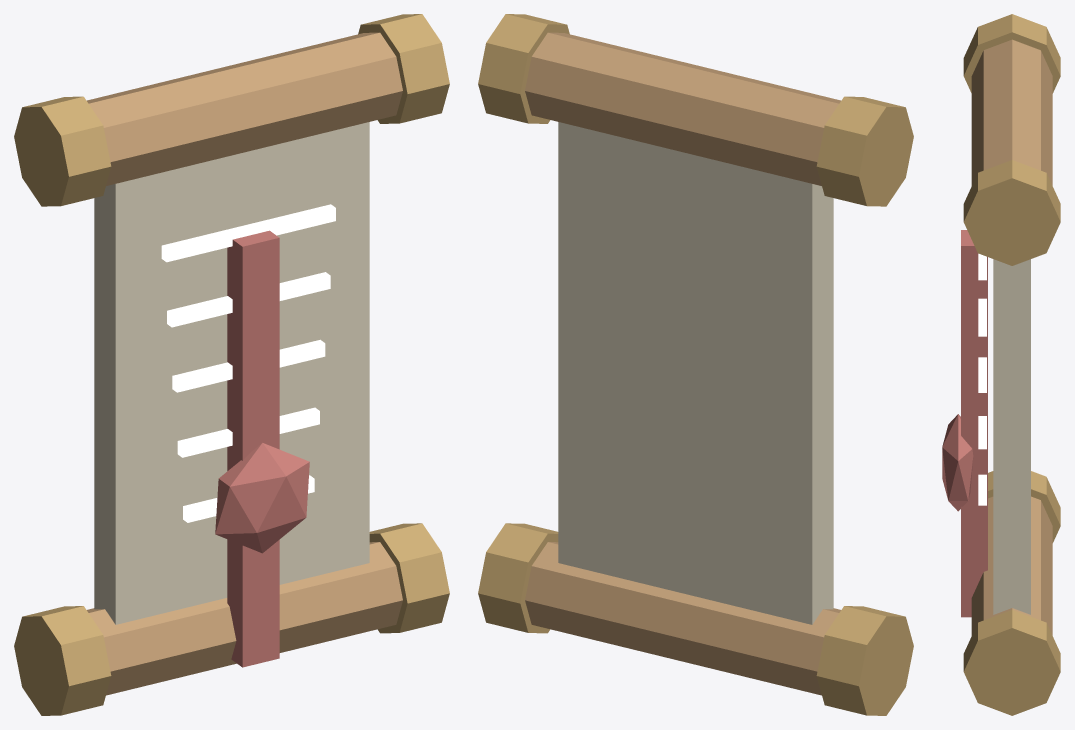
Rendered from sealed_scroll.glb.
3 views of the same model, side by side, from view 1: azimuth 30°, elevation 25°; view 2: azimuth 150°, elevation 25°; view 3: azimuth 270°, elevation 25° (orthographic). The views are drawn at different scales.
Visible parts, largest first — view 1: Parchment, EndCap_0.46, EndCap_-0.46, Ribbon, MetalCap_0.46, MetalCap_-0.46, WaxSeal, MetalCapR_0.46, MetalCapR_-0.46, GlowingText_0, GlowingText_1, GlowingText_2 (+2 smaller); view 2: Parchment, EndCap_0.46, EndCap_-0.46, MetalCap_0.46, MetalCap_-0.46, MetalCapR_0.46, MetalCapR_-0.46; view 3: Parchment, EndCap_0.46, MetalCapR_0.46, MetalCapR_-0.46, Ribbon, EndCap_-0.46, MetalCap_0.46, WaxSeal, MetalCap_-0.46, GlowingText_1, GlowingText_2, GlowingText_3 (+2 smaller).
Part boxes in pixels (x1=…): Parchment: x1=94, y1=122, x2=369, y2=624; EndCap_0.46: x1=87, y1=32, x2=402, y2=185; EndCap_-0.46: x1=87, y1=542, x2=402, y2=695; Ribbon: x1=227, y1=230, x2=279, y2=667; MetalCap_0.46: x1=14, y1=96, x2=111, y2=206; MetalCap_-0.46: x1=14, y1=606, x2=111, y2=715; WaxSeal: x1=215, y1=443, x2=309, y2=553; MetalCapR_0.46: x1=358, y1=14, x2=449, y2=123; MetalCapR_-0.46: x1=369, y1=523, x2=449, y2=633; GlowingText_0: x1=161, y1=204, x2=335, y2=262; GlowingText_1: x1=167, y1=272, x2=330, y2=327; GlowingText_2: x1=172, y1=339, x2=325, y2=392; Parchment: x1=558, y1=122, x2=833, y2=624; EndCap_0.46: x1=525, y1=32, x2=840, y2=185; EndCap_-0.46: x1=525, y1=542, x2=840, y2=695; MetalCap_0.46: x1=816, y1=96, x2=913, y2=206; MetalCap_-0.46: x1=816, y1=606, x2=913, y2=715; MetalCapR_0.46: x1=478, y1=14, x2=569, y2=123; MetalCapR_-0.46: x1=478, y1=523, x2=558, y2=633; Parchment: x1=993, y1=259, x2=1030, y2=614; EndCap_0.46: x1=971, y1=39, x2=1052, y2=185; MetalCapR_0.46: x1=963, y1=160, x2=1060, y2=265; MetalCapR_-0.46: x1=963, y1=610, x2=1060, y2=715; Ribbon: x1=961, y1=230, x2=987, y2=617; EndCap_-0.46: x1=971, y1=496, x2=1052, y2=635; MetalCap_0.46: x1=963, y1=14, x2=1060, y2=93; WaxSeal: x1=942, y1=414, x2=973, y2=511; MetalCap_-0.46: x1=988, y1=471, x2=1060, y2=542; GlowingText_1: x1=978, y1=298, x2=986, y2=336; GlowingText_2: x1=978, y1=357, x2=986, y2=392; GlowingText_3: x1=978, y1=416, x2=986, y2=449.
Bounding box in the file's own units: 0.72 × 1.1 × 0.2198.
